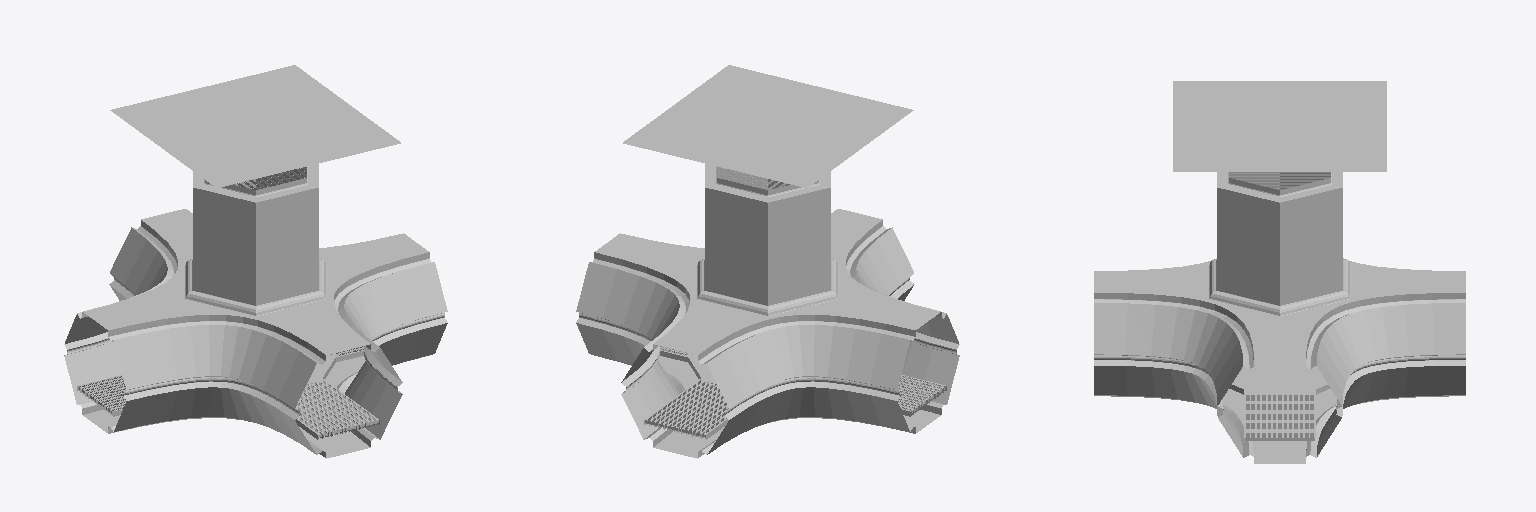
Rendered from Hallway4Way.obj.
3 renders of one model, left to right at view 1: azimuth 30°, elevation 25°; view 2: azimuth 150°, elevation 25°; view 3: azimuth 270°, elevation 25°, orthographic.
Visible parts, largest first — view 1: 4Way_Cube.085; view 2: 4Way_Cube.085; view 3: 4Way_Cube.085.
Part boxes in pixels (x1,y1,x2,y2): 4Way_Cube.085: (64,65,447,458); 4Way_Cube.085: (576,65,959,458); 4Way_Cube.085: (1094,81,1465,463).
Bounding box in the file's own units: 52 × 40 × 52.